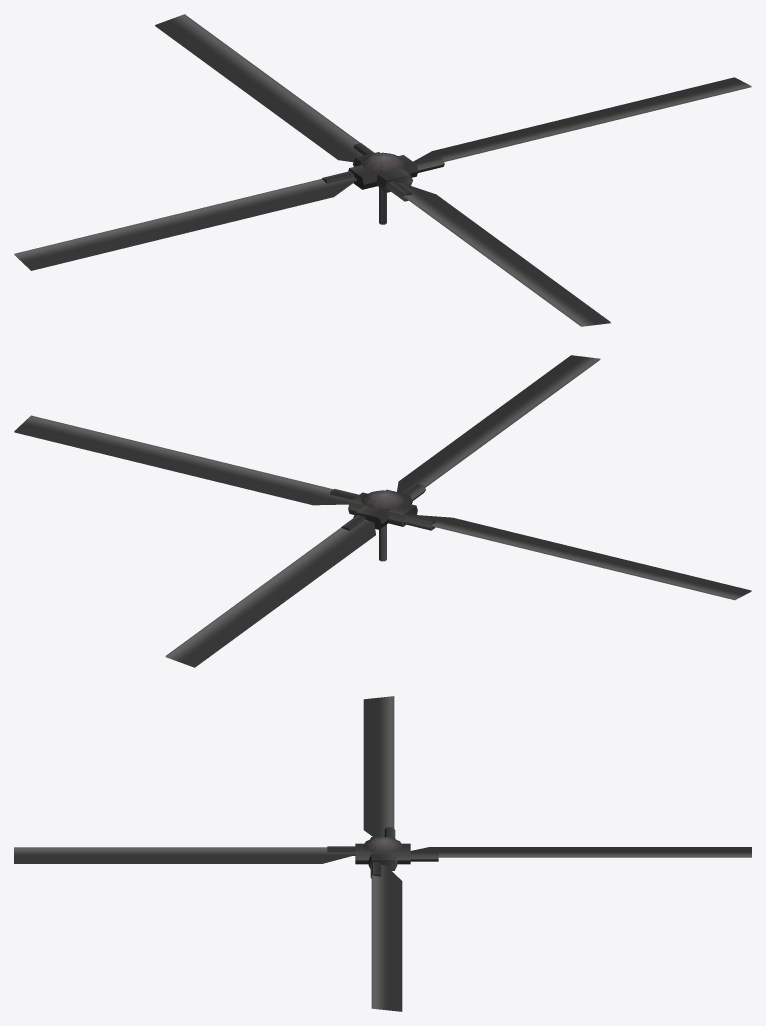
File: helicopter-rotor.obj
3 views of the same model, one above another, from view 1: azimuth 30°, elevation 25°; view 2: azimuth 150°, elevation 25°; view 3: azimuth 270°, elevation 25° (orthographic). The views are drawn at different scales.
Visible parts, largest first — view 1: Rotor; view 2: Rotor; view 3: Rotor.
Boxes of the visible parts, x1,y1,x2,y2 form: Rotor: (14,14,751,326); Rotor: (14,355,751,667); Rotor: (14,696,751,1011).
Size of the model in its own units: 11.93 by 1.06 by 11.93.
